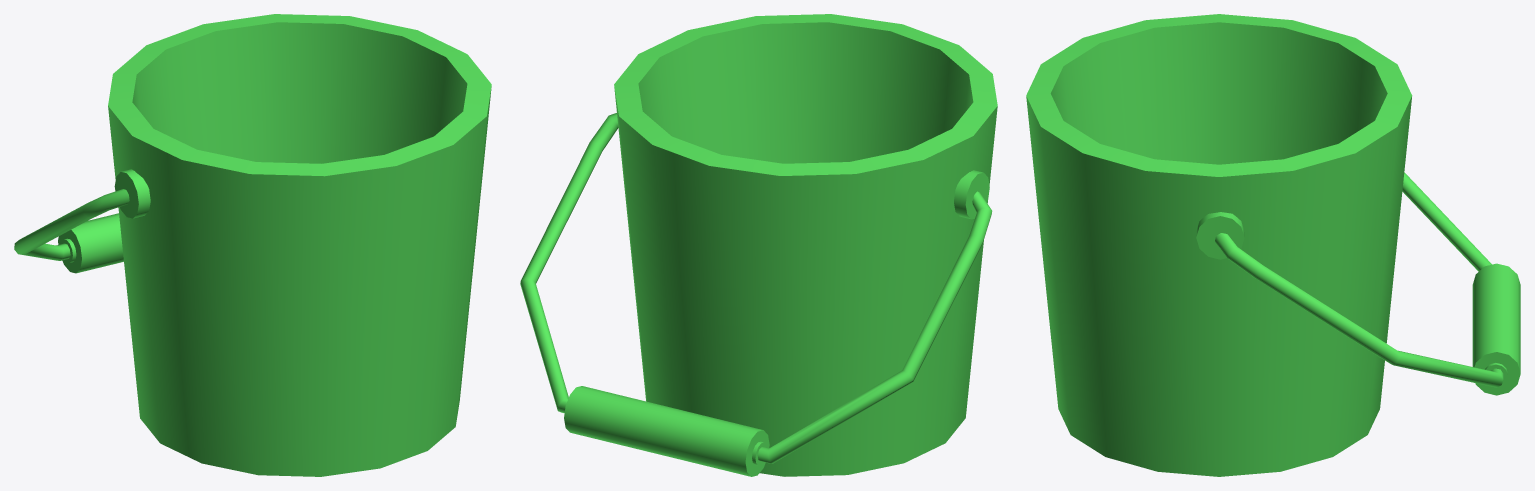
The model's file is SM_town_woodpail.fbx.
3 renders of one model, left to right at view 1: azimuth 30°, elevation 25°; view 2: azimuth 150°, elevation 25°; view 3: azimuth 270°, elevation 25°, orthographic.
Parts seen in each view (by area): view 1: woodpail_handle_low; view 2: woodpail_handle_low; view 3: woodpail_handle_low.
Boxes of the visible parts, bbox=[...] form: woodpail_handle_low: bbox=[14, 14, 491, 476]; woodpail_handle_low: bbox=[520, 14, 997, 476]; woodpail_handle_low: bbox=[1026, 14, 1520, 476].
Bounding box in the file's own units: 56.41 × 43.28 × 61.5.
